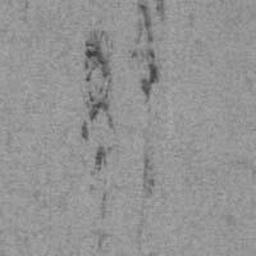Inclusion: (79, 27, 118, 141), (129, 0, 168, 102), (141, 151, 156, 200), (92, 142, 109, 172), (97, 232, 113, 247), (100, 192, 108, 219)
